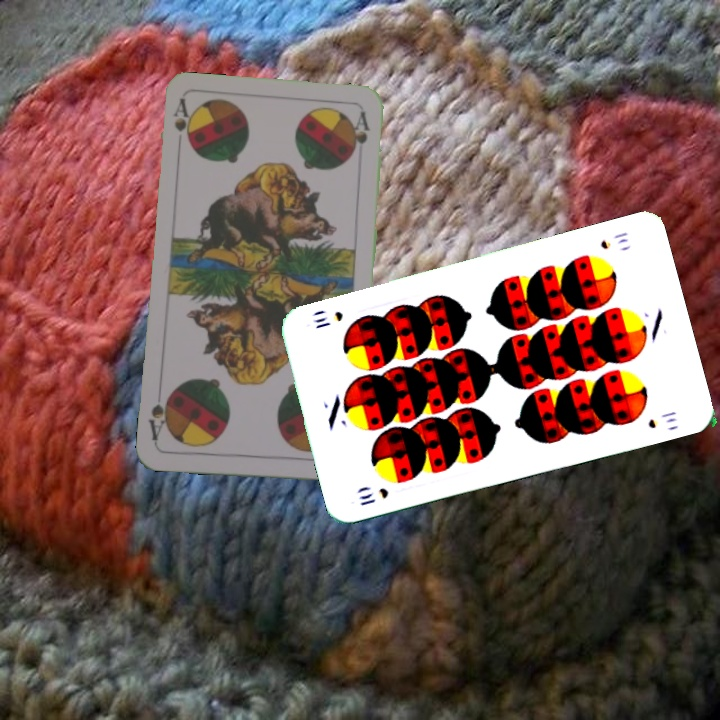S10: (355, 484, 391, 508), (596, 228, 631, 252)
SA: (168, 96, 193, 146)
